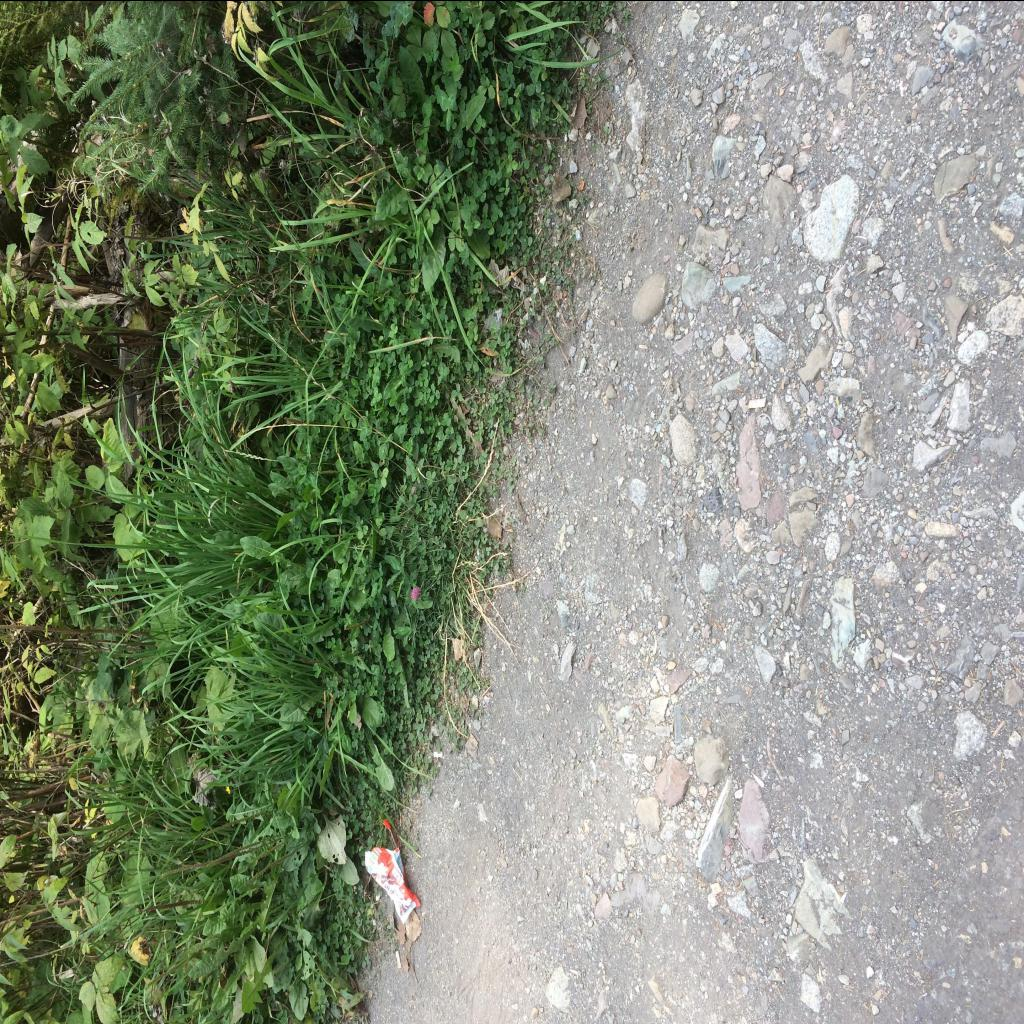Cigarette: (749, 396, 767, 408)
Other plastic: (366, 818, 422, 923)
